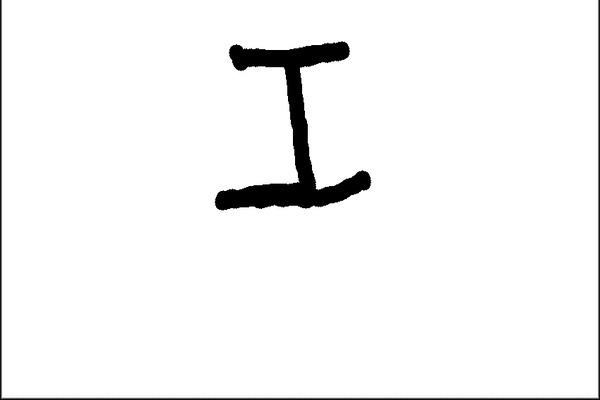i: (204, 38, 377, 206)
